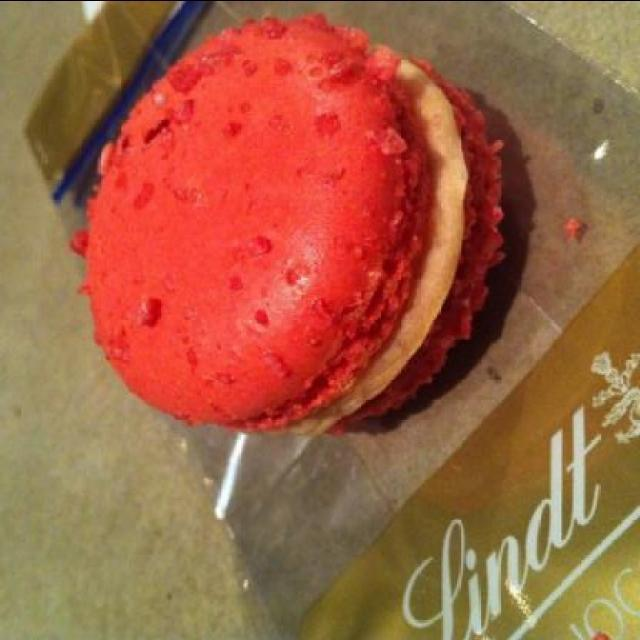Macaron: (80, 9, 566, 440)
